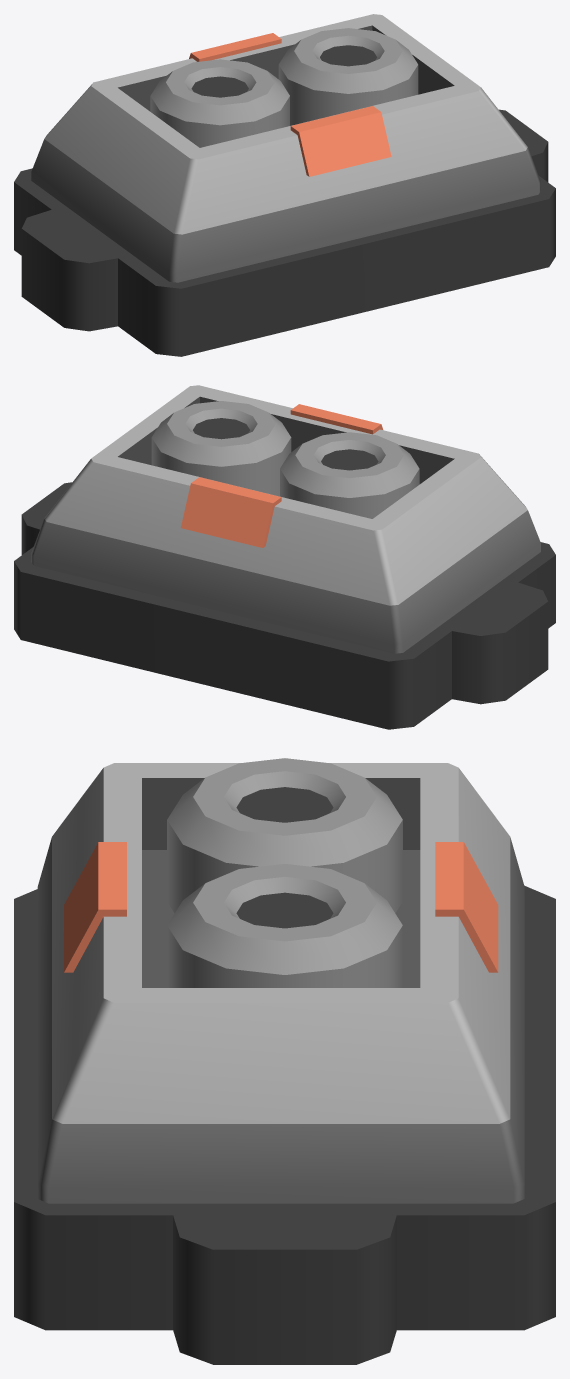
The model's file is space_station_decoration_004.fbx.
3 views of the same model, one above another, from view 1: azimuth 30°, elevation 25°; view 2: azimuth 150°, elevation 25°; view 3: azimuth 270°, elevation 25° (orthographic). The views are drawn at different scales.
Parts seen in each view (by area): view 1: space_station_decoration_004; view 2: space_station_decoration_004; view 3: space_station_decoration_004.
Boxes of the visible parts, x1,y1,x2,y2 form: space_station_decoration_004: (14, 14, 555, 356); space_station_decoration_004: (14, 385, 555, 729); space_station_decoration_004: (14, 758, 555, 1364).
Bounding box in the file's own units: 869 × 500 × 321.
